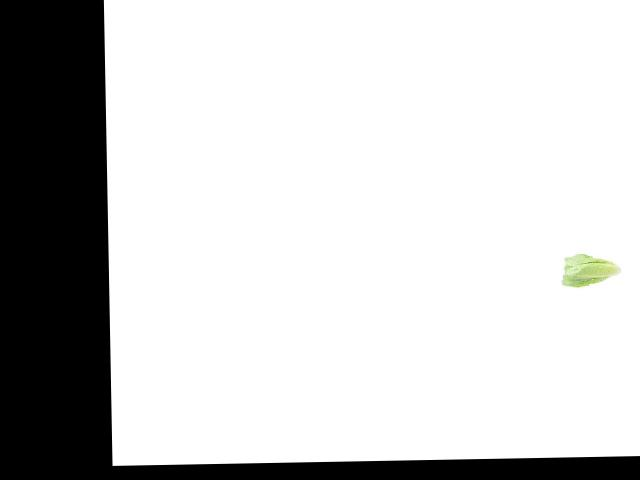lettuce: (558, 247, 623, 292)
